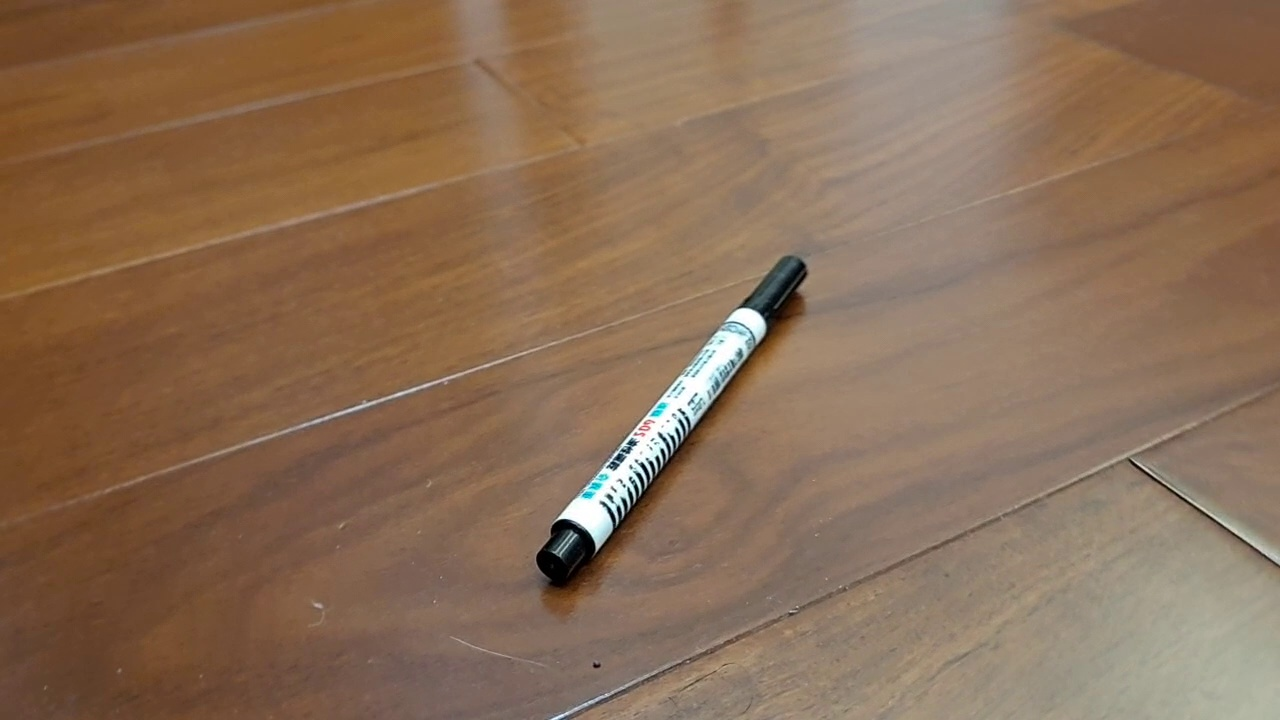pen: (536, 254, 809, 587)
